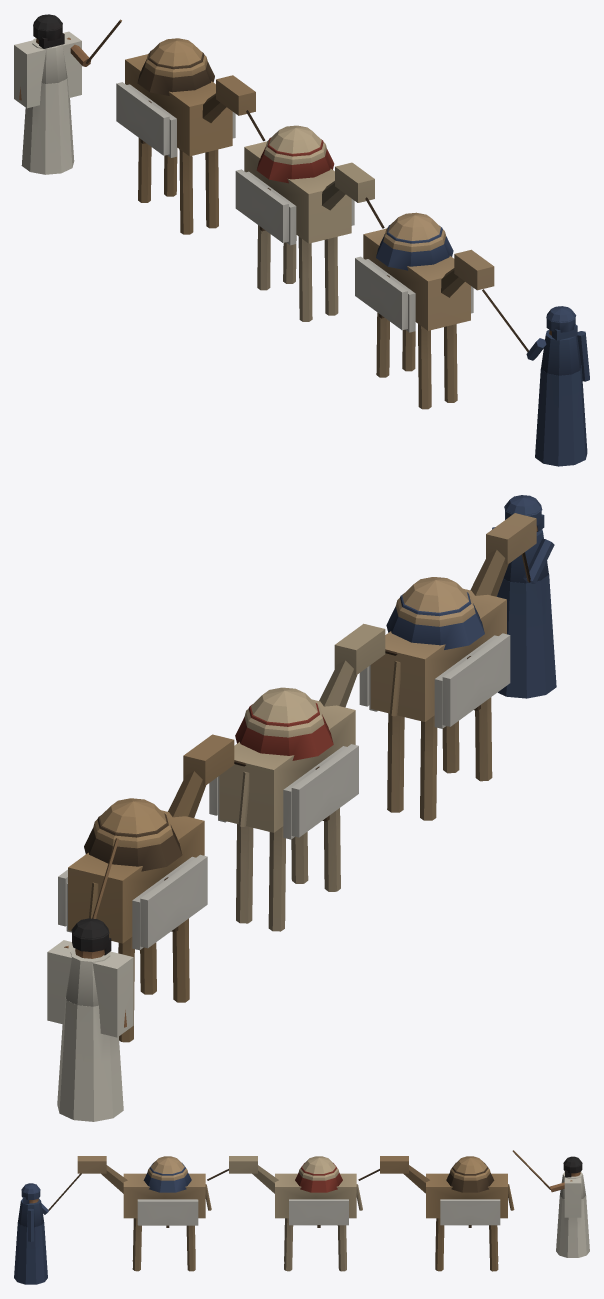
Rendered from wagon.glb.
3 renders of one model, top to bottom at view 1: azimuth 30°, elevation 25°; view 2: azimuth 150°, elevation 25°; view 3: azimuth 270°, elevation 25°, orthographic. The views are drawn at different scales.
Parts seen in each view (by area): view 1: base; view 2: base; view 3: base.
Part boxes in pixels (x1,y1,x2,y2): base: (14,14,589,466); base: (47,495,556,1121); base: (14,1150,589,1284).
Size of the model in its own units: 1.67 by 1.91 by 9.14.
